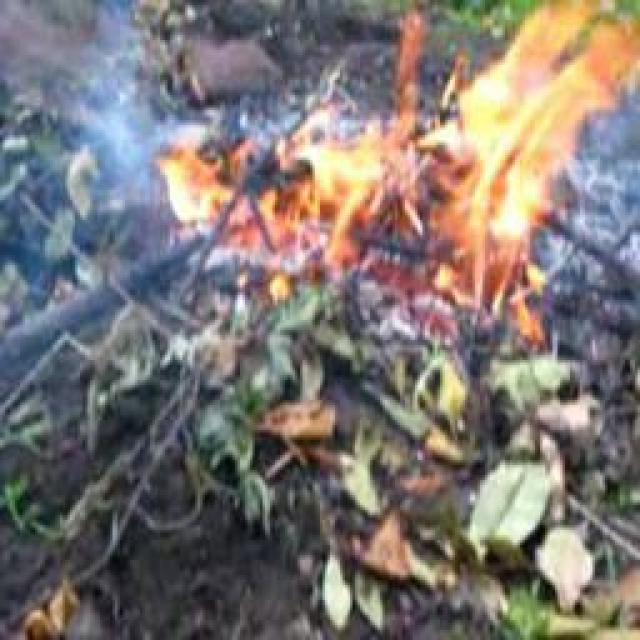Fire: (406, 7, 615, 288), (160, 135, 408, 265)
